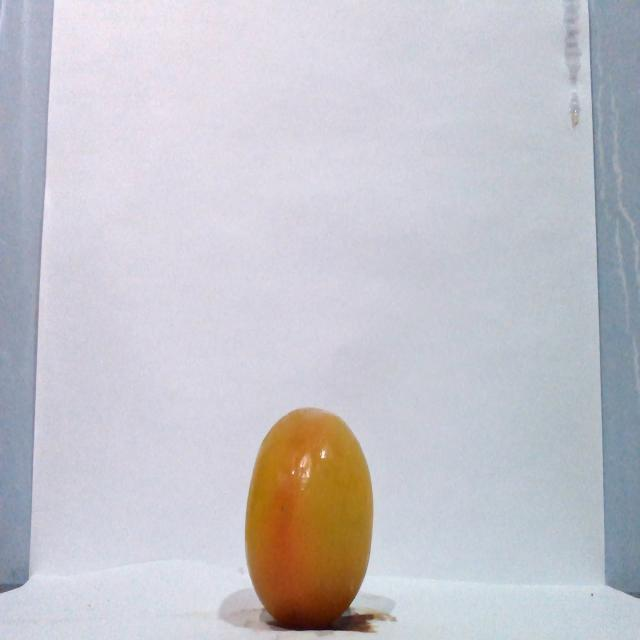Red: (243, 405, 374, 628)
